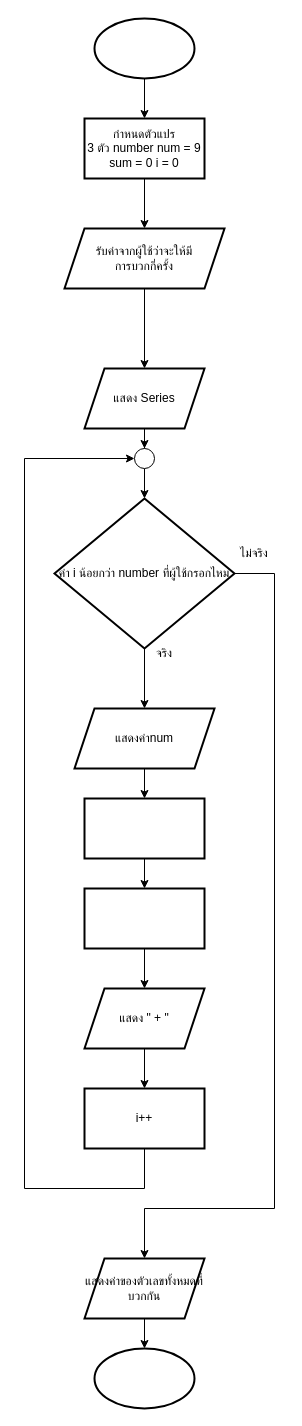
Image size: 302x1426. Some labels were removed from this diagram. The centre of each missing label's shape, as x and y in pixels:
end: (x=144, y=1378)
start: (x=144, y=48)
สูตร เอาsumบวกกับค่าnumที่กำหนด: (x=144, y=828)
เอาค่าnumที่กำหนดคูณ10 และบวก 9 num = num * 10 +9: (x=144, y=918)
